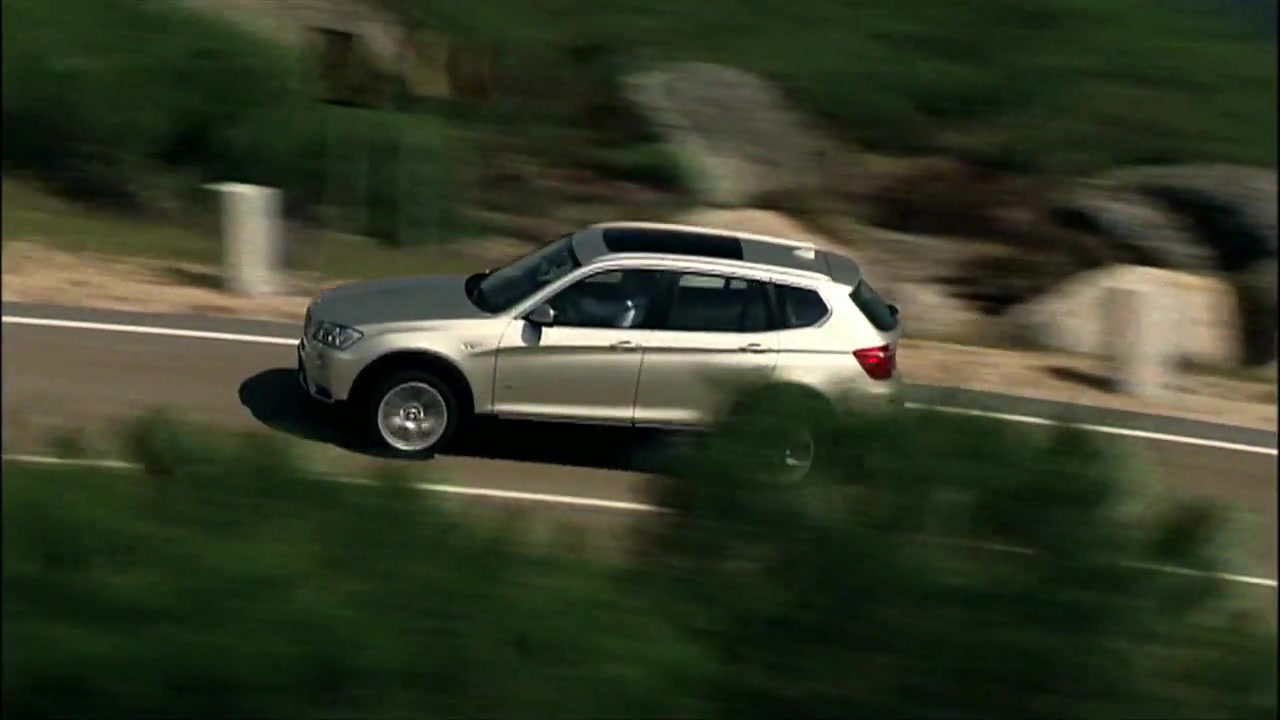car: (291, 215, 909, 494)
